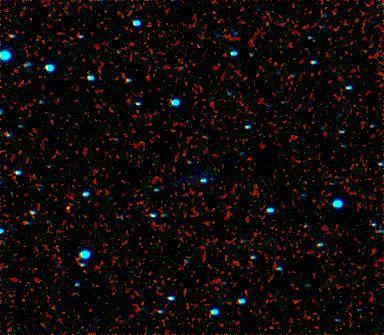star: (54, 194, 84, 224)
